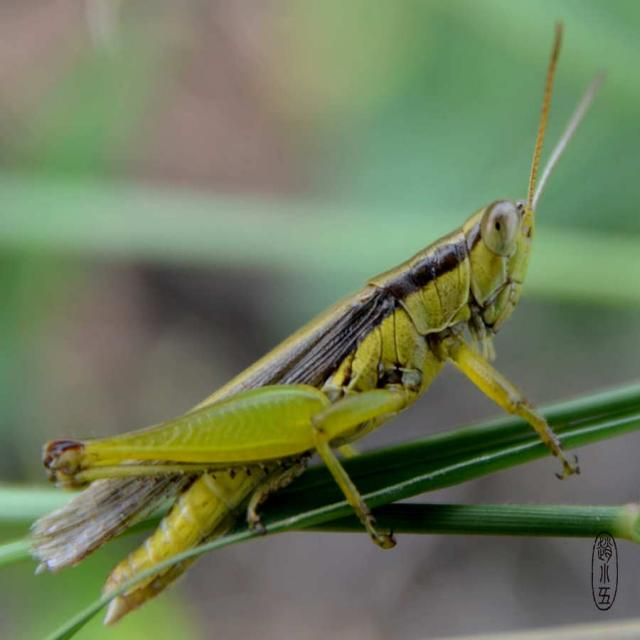ZhaMeng: (22, 184, 570, 614)
